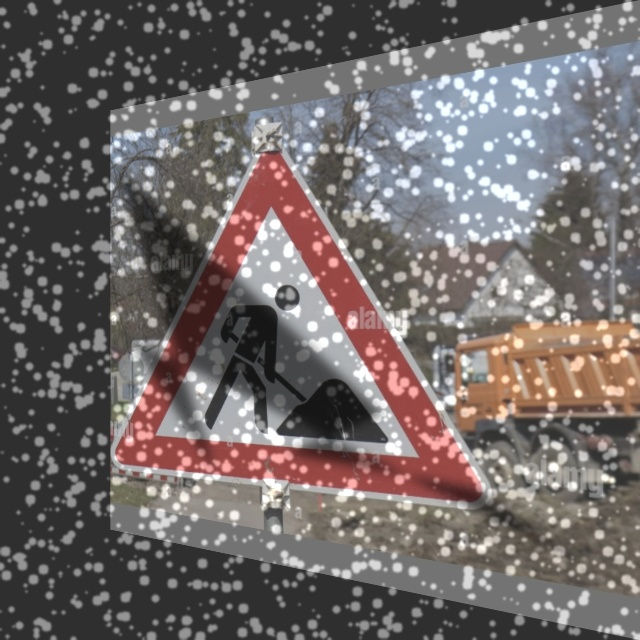Men_at_Work: (149, 131, 458, 499)
